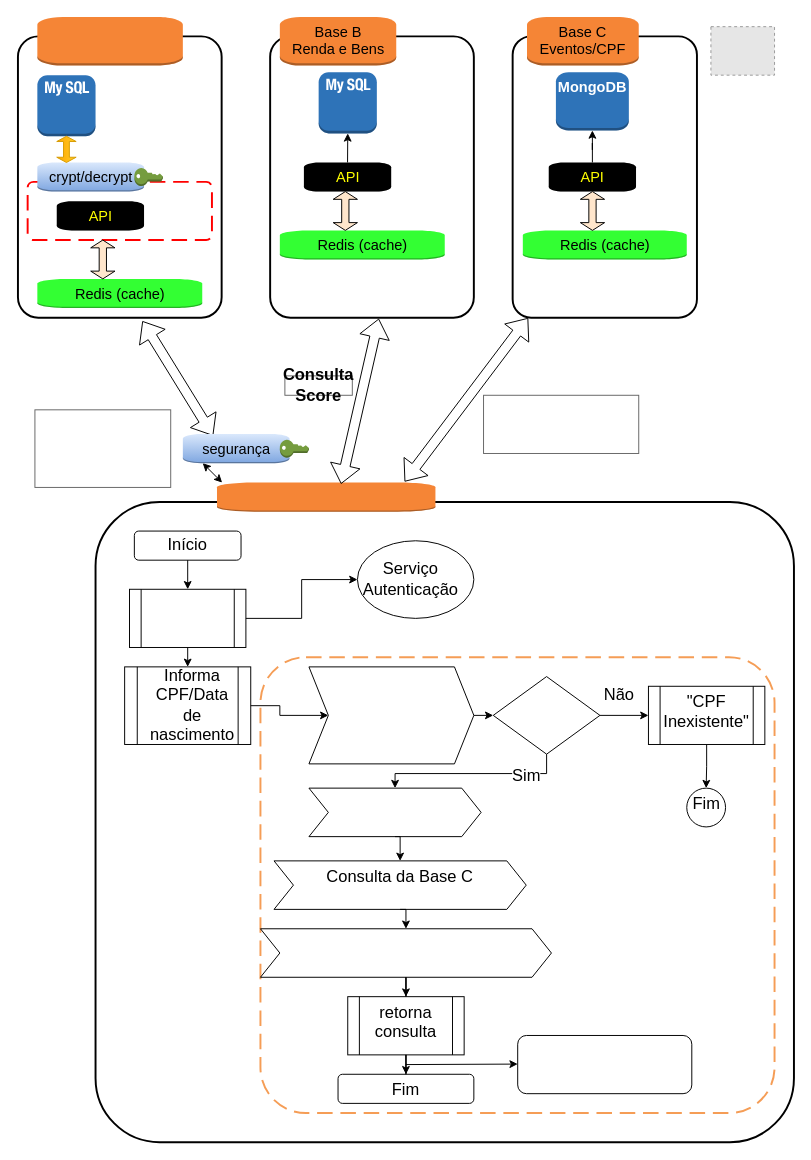
This 811x1160 diagram has some shape labels left out. Grey dashed boxes stand in for pictures. Each missing label, with the centre of its shape:
"Aplicação facade" goes at [325,497].
"Base A Dados de pessoas" goes at [109,40].
"Cliente faz login" goes at [187,617].
"Consome application-log-api via rabbitMQ" goes at [604,1064].
"Consulta Base A através de chave assimétrica" goes at [391,715].
"Consulta base B através UI" goes at [394,812].
"Consulta eventos relacionados ao CPF" goes at [561,423].
"Consulta UID através do CPF + data nascimento" goes at [102,448].
"encontrou?" goes at [546,715].
"envia para o serviço calculador de score" goes at [405,952].
